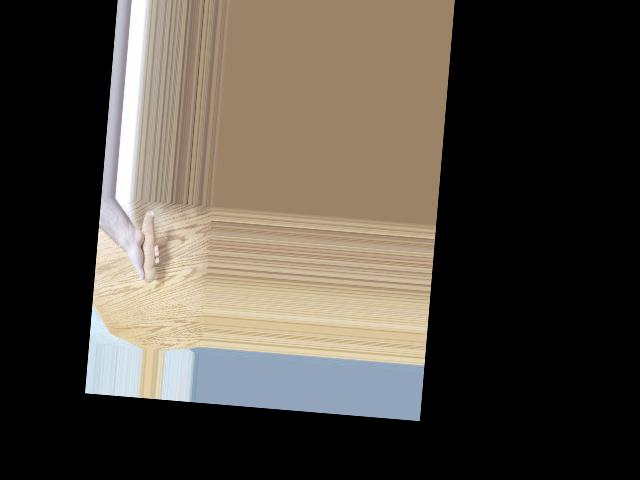sweet_potato: (131, 207, 161, 284)
